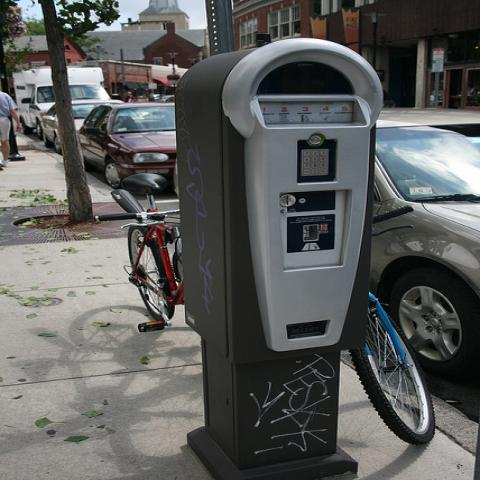car: (365, 104, 479, 394), (77, 102, 177, 190), (37, 98, 126, 154)
truck: (12, 66, 112, 136)
